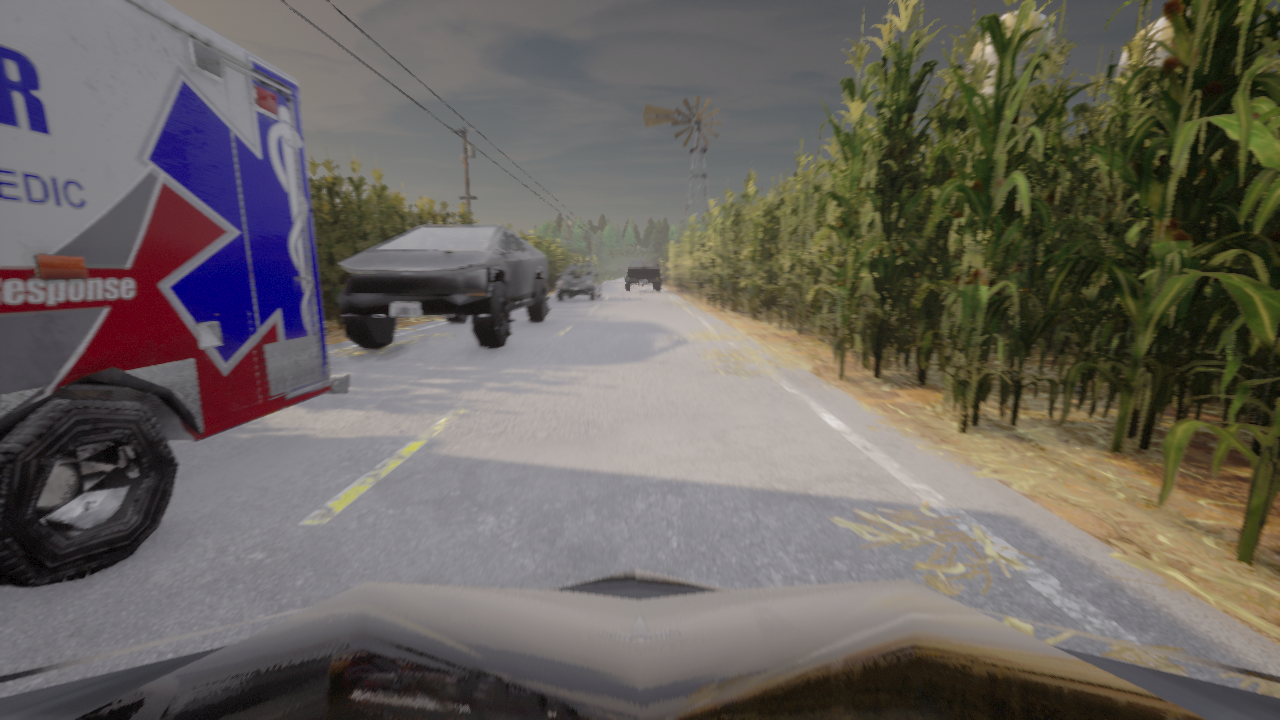cyclist: (0, 569, 1279, 719), (338, 225, 550, 348), (556, 265, 602, 300), (624, 260, 662, 291)
